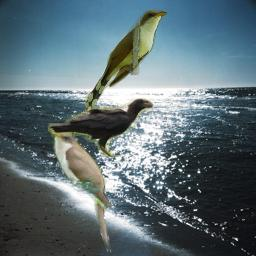Crow: (48, 98, 154, 157)
Cuckoo: (45, 126, 114, 254), (85, 10, 167, 111)
